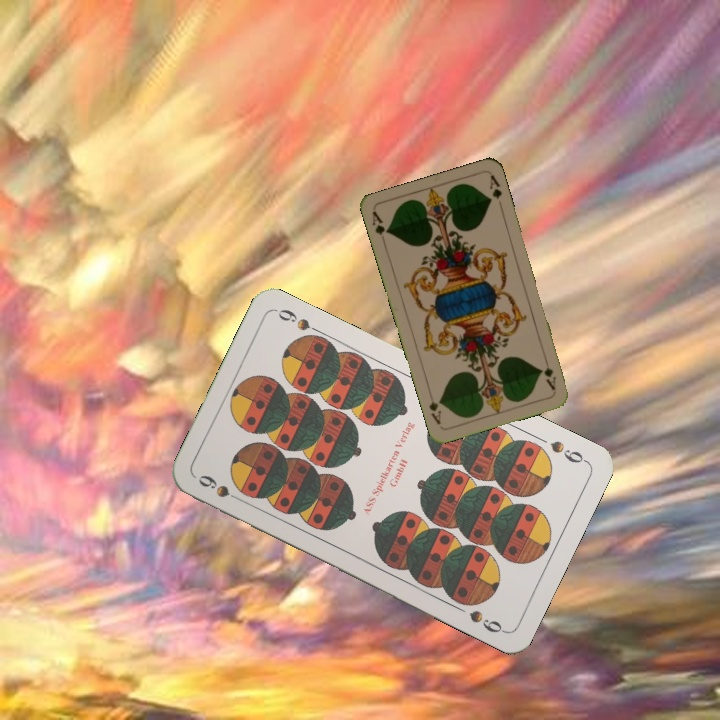GA: (368, 208, 391, 247), (539, 363, 559, 393)
S9: (194, 470, 248, 506), (546, 436, 590, 466)
